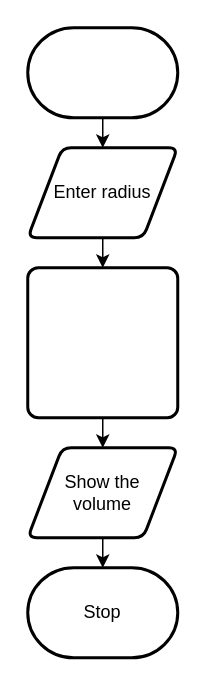
This 204x684 diagram has some shape labels left out. The shapes that lost their labels are listed below. From the top down, each one's box as (x1, y1, x2, y2) in pixels, then its label:
(26, 26, 178, 118): Start
(26, 266, 178, 418): V = 4/3 * PI * radius ** 3
